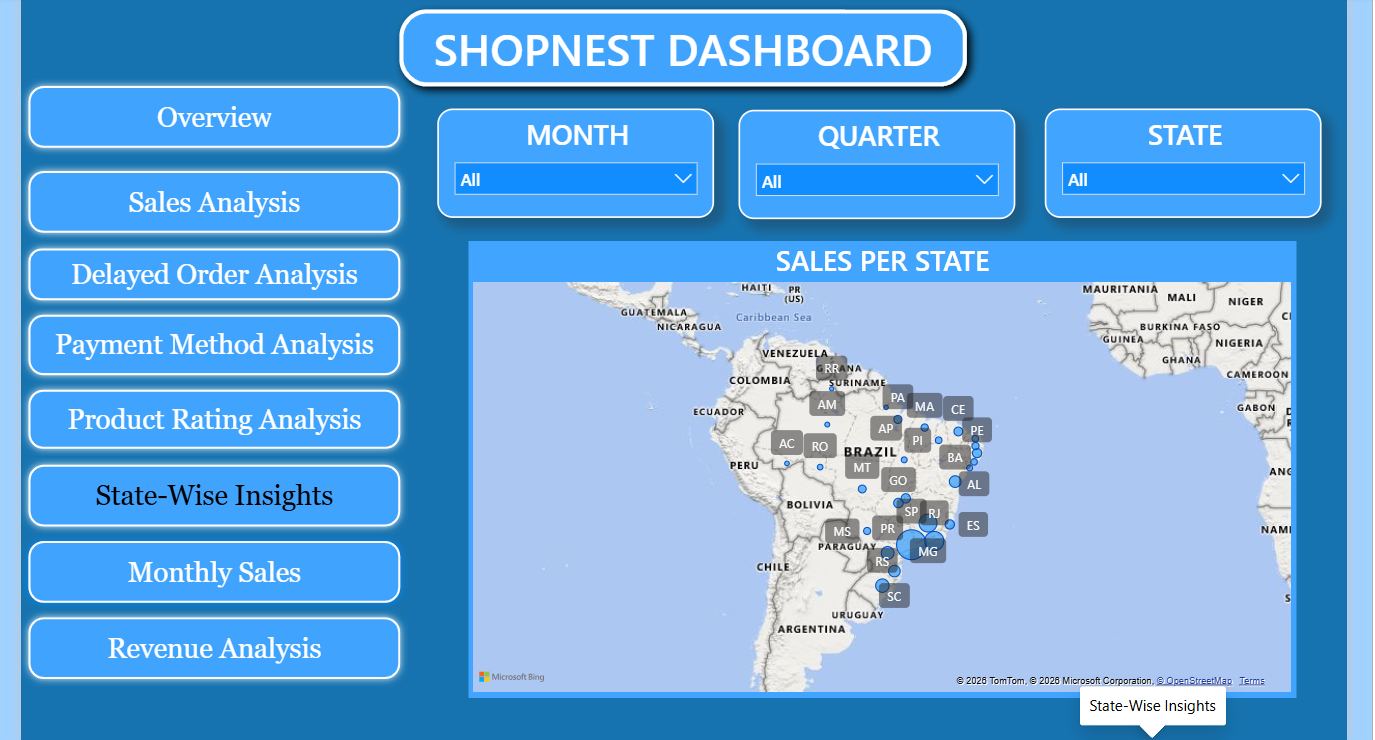

What the dashboard file says about the page in this screenshot:
{"tool":"powerbi","page":{"name":"State-Wise Insights","canvas":[1280,720],"ordinal":5},"visuals":[{"type":"shape","box":[352.7,0,573.6,100.2],"z":0},{"type":"slicer","title":"MONTH","fields":{"Values":["orders_dataset.Month"]},"box":[402.1,108.4,267.6,105.7],"z":1000},{"type":"slicer","title":"QUARTER","fields":{"Values":["orders_dataset.Quarter"]},"box":[693,109.8,267.6,105.7],"z":2000},{"type":"map","title":"SALES PER STATE","fields":{"Category":["geolocation_dataset.geolocation_state"],"Y":["Avg(geolocation_dataset.geolocation_lat)"],"X":["Avg(geolocation_dataset.geolocation_lng)"],"Size":["Calculated Measures.Total Revenue"]},"box":[432.2,236,798.6,440.5],"z":3000},{"type":"slicer","title":"STATE","fields":{"Values":["orders_dataset.state"]},"box":[988,108.4,267.6,105.7],"z":4000},{"type":"shape","box":[0,236,373.2,64.5],"z":5000},{"type":"shape","box":[0,161.9,373.2,74.1],"z":6000},{"type":"shape","box":[0,300.5,373.2,72.7],"z":7000},{"type":"shape","box":[0,444.6,373.2,74.1],"z":8000},{"type":"shape","box":[0,373.2,373.2,71.4],"z":9000},{"type":"shape","box":[0,592.8,373.2,74.1],"z":10000},{"type":"shape","box":[0,518.7,373.2,74.1],"z":11000},{"type":"shape","box":[0,79.6,373.2,74.1],"z":12000}]}

Visuals, with their boxes on the page's 1280x720 design canvas (x1, y1, x2, y2). These are canvas units, not pixel positions in the 1375x740 screenshot, which may show the page scaled, cropped or inside an application window:
shape: (353,0,926,100)
"MONTH" slicer: (402,108,670,214)
"QUARTER" slicer: (693,110,961,216)
"SALES PER STATE" map: (432,236,1231,676)
"STATE" slicer: (988,108,1256,214)
shape: (0,236,373,300)
shape: (0,162,373,236)
shape: (0,300,373,373)
shape: (0,445,373,519)
shape: (0,373,373,445)
shape: (0,593,373,667)
shape: (0,519,373,593)
shape: (0,80,373,154)
